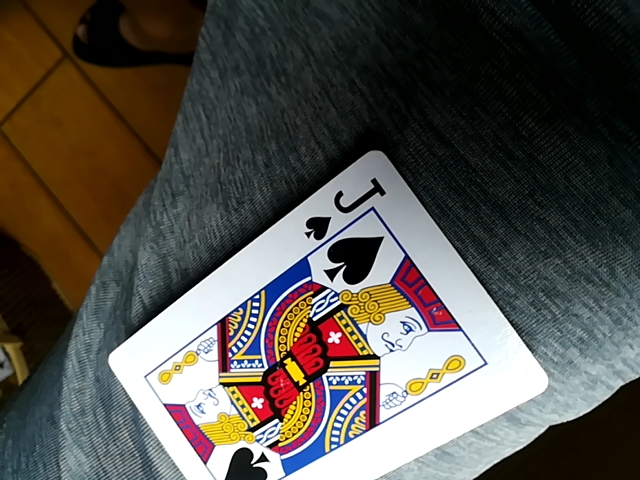ht j: (121, 149, 550, 478)
